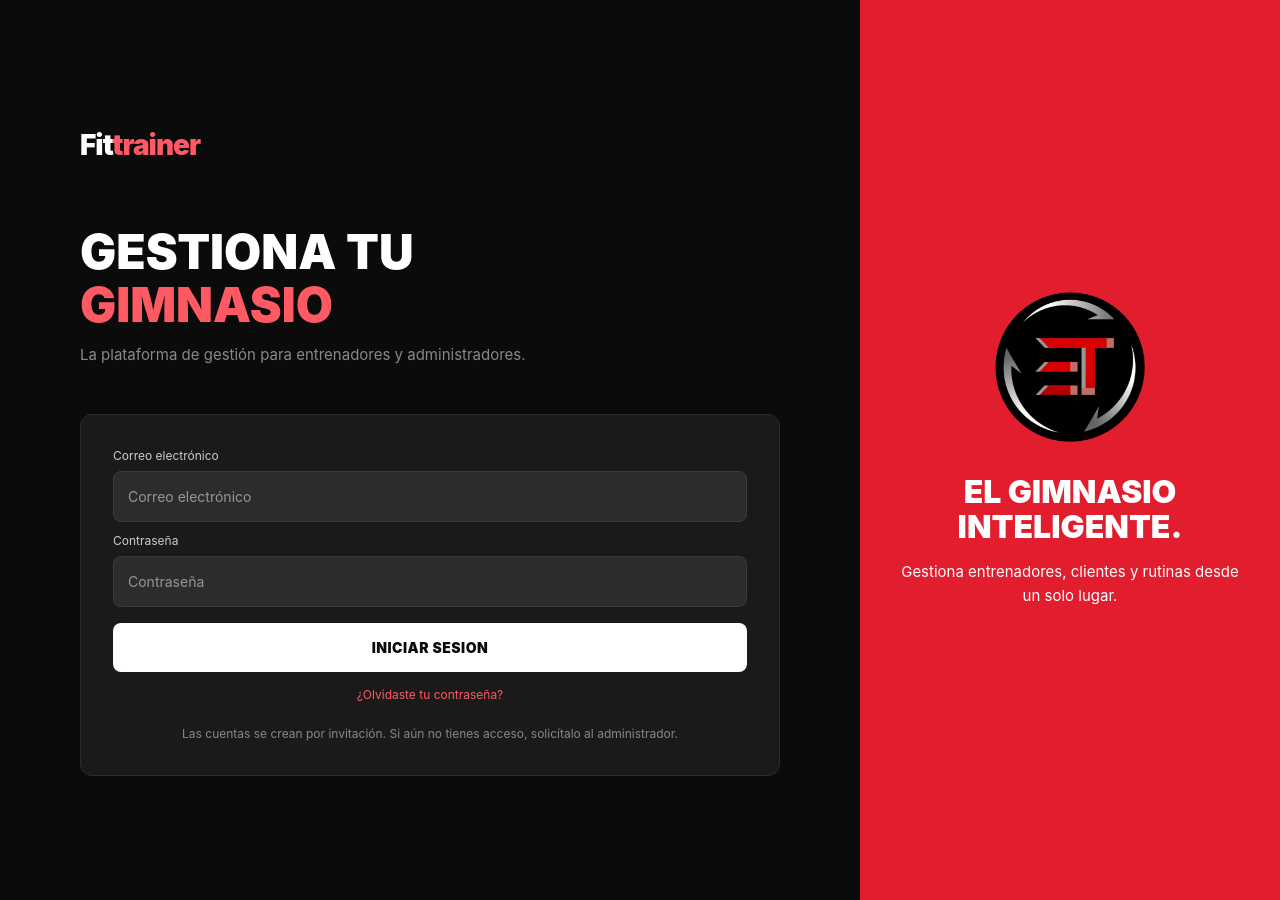
Test: Login › valida los campos obligatorios antes de consultar Supabase
Click the button "INICIAR SESION".
click(430, 648)  # box [113,623,747,672]
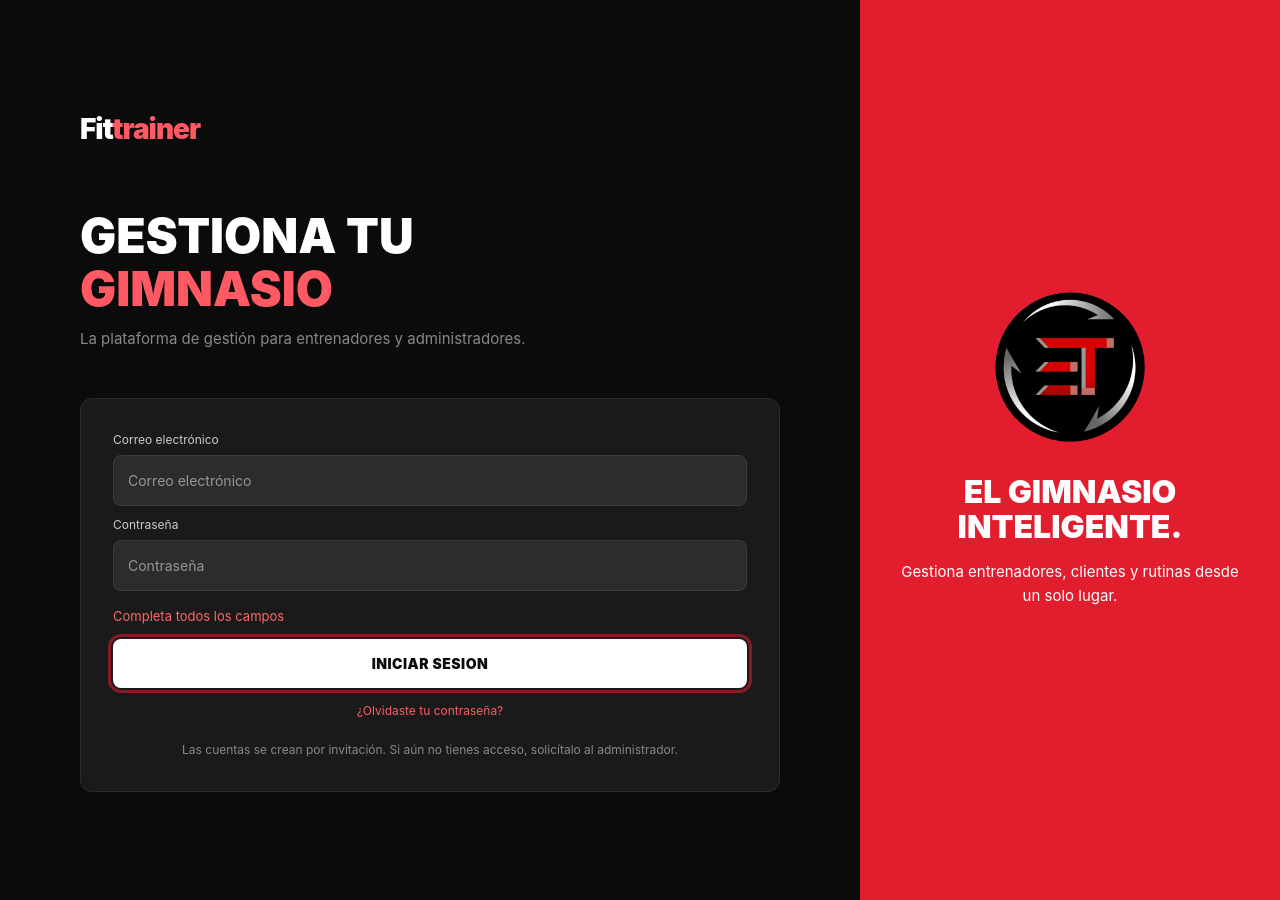
Check: the message reads "Completa todos los campos", box [113,608,284,624]
